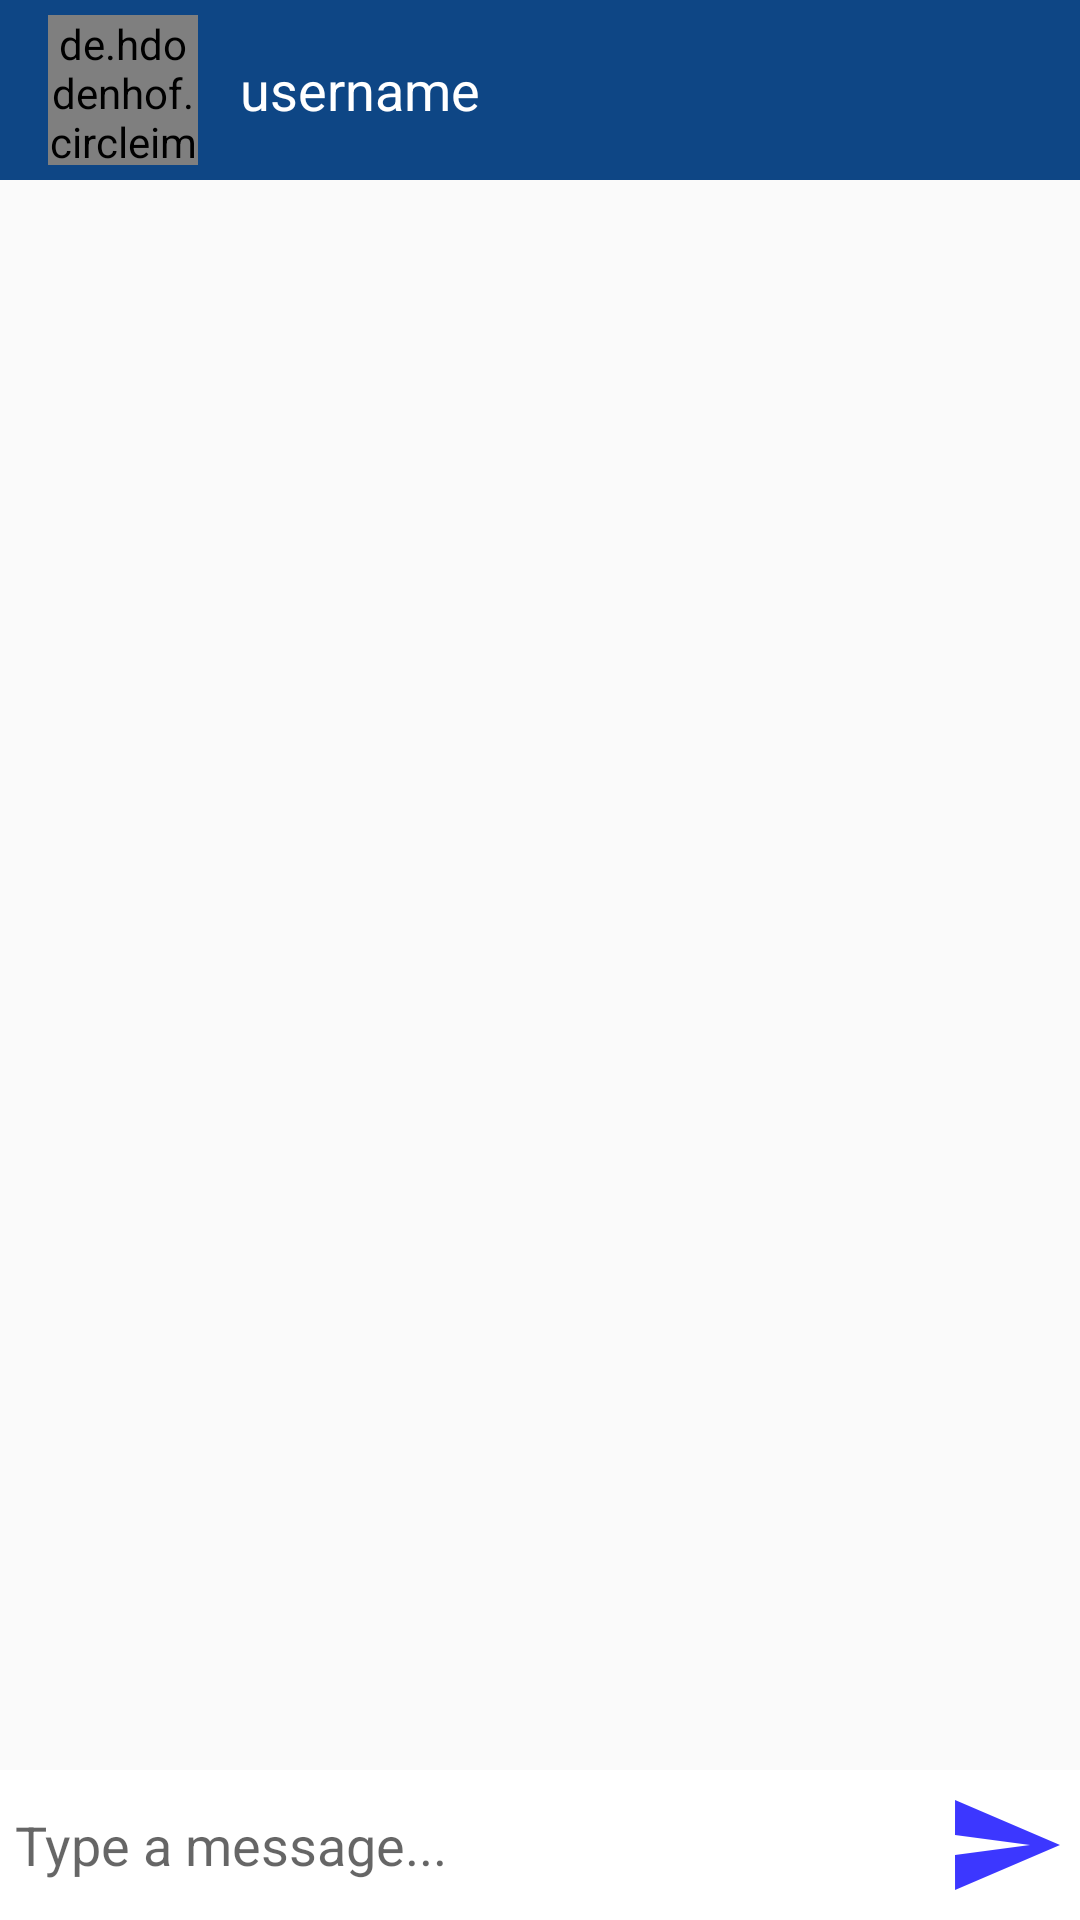

Icon bounding boxes for this 1080*1920 phone screenshot, format (x1, y1, x2, y2):
send: (955, 1800, 1060, 1890)
